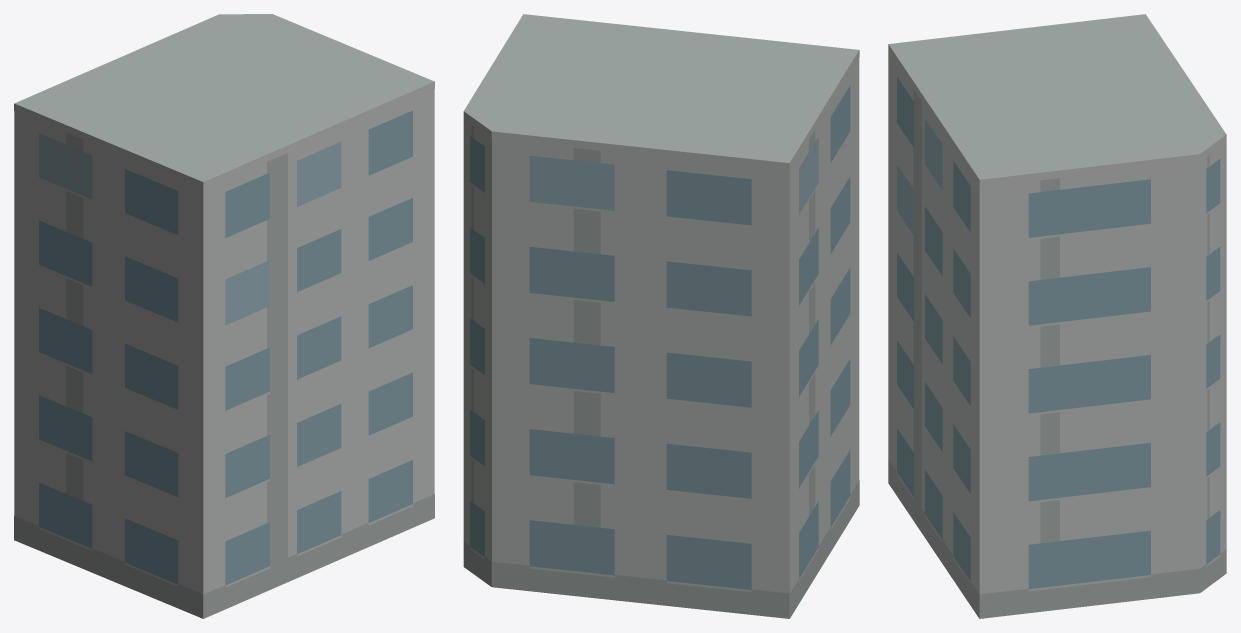
File: survey-upis-32579177.glb
The picture shows the model from 3 angles, left to right: view 1: azimuth 30°, elevation 25°; view 2: azimuth 150°, elevation 25°; view 3: azimuth 270°, elevation 25°; orthographic projection. The views are drawn at different scales.
Visible parts, largest first — view 1: survey-upis-32579177.tmp; view 2: survey-upis-32579177.tmp; view 3: survey-upis-32579177.tmp.
Part boxes in pixels (box(x1,y1,x2,y2)): survey-upis-32579177.tmp: box(14, 14, 434, 618); survey-upis-32579177.tmp: box(463, 14, 859, 618); survey-upis-32579177.tmp: box(888, 14, 1226, 618).
Size of the model in its own units: 11.5 by 14.2 by 9.92.
